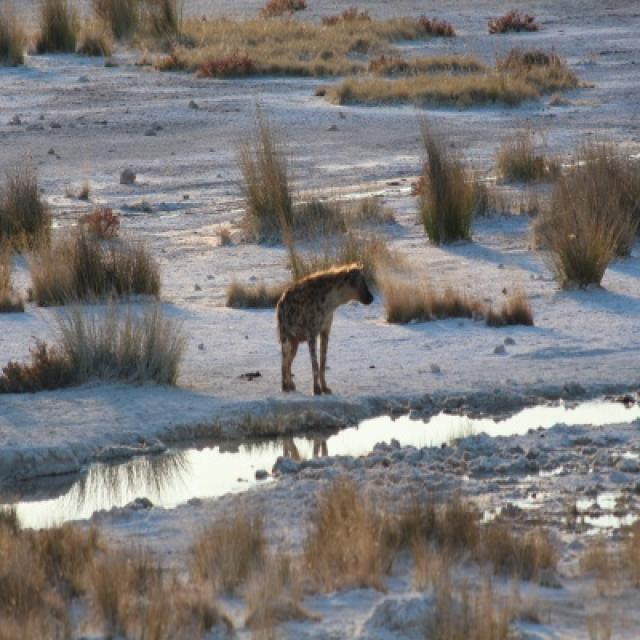hyena: (272, 266, 374, 397)
